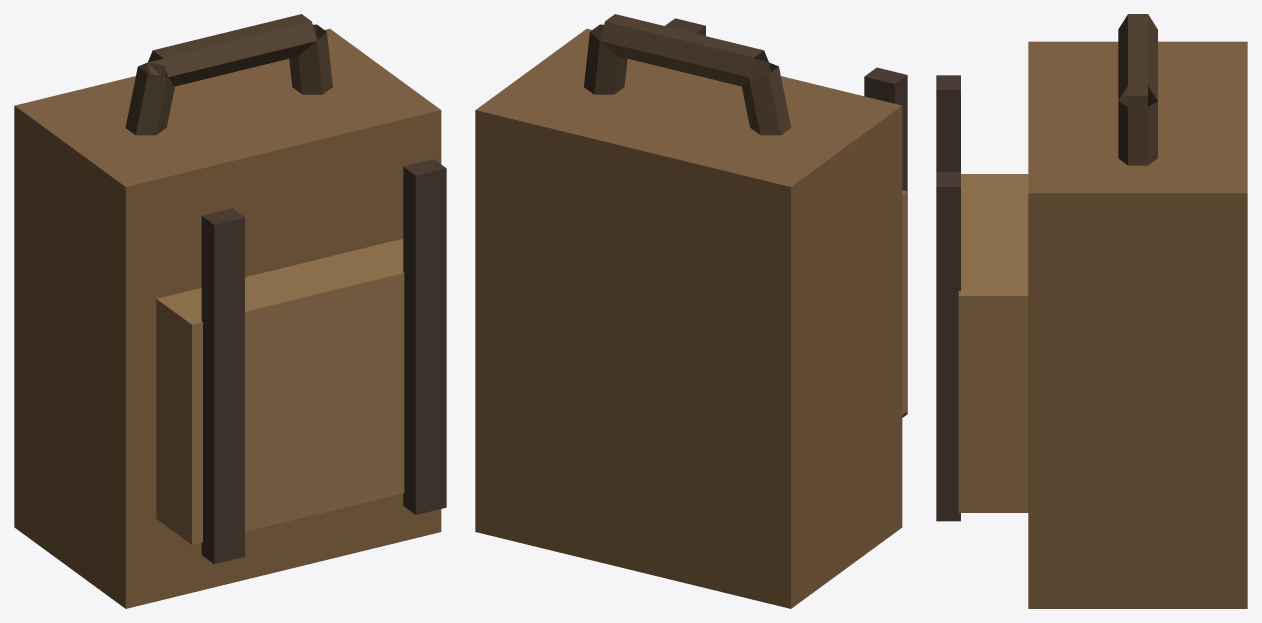
3 renders of one model, left to right at view 1: azimuth 30°, elevation 25°; view 2: azimuth 150°, elevation 25°; view 3: azimuth 270°, elevation 25°, orthographic.
Parts seen in each view (by area): view 1: P03_旅行背包; view 2: P03_旅行背包; view 3: P03_旅行背包.
Boxes of the visible parts, x1,y1,x2,y2 form: P03_旅行背包: (14, 14, 446, 608); P03_旅行背包: (475, 14, 907, 608); P03_旅行背包: (936, 14, 1247, 608).
Size of the model in its own units: 0.36 by 0.5373 by 0.3125.
